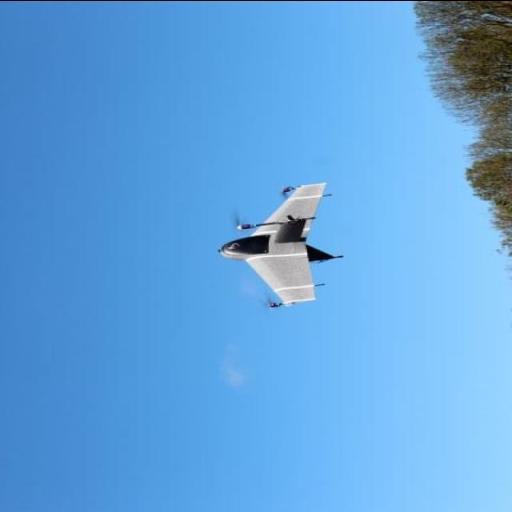uav: (214, 184, 340, 314)
